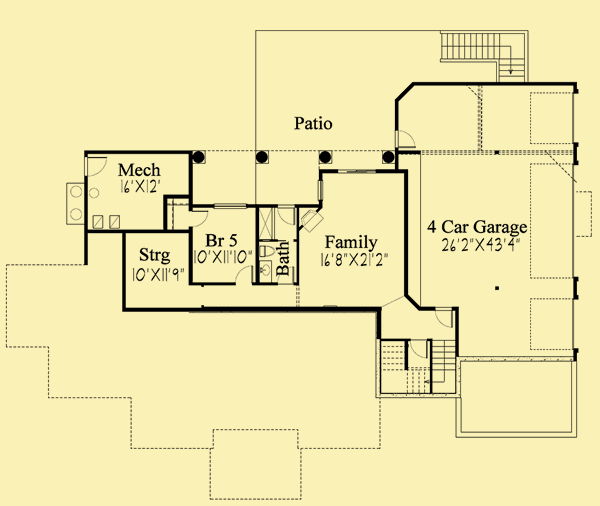door: (84, 155, 111, 177), (231, 263, 255, 287), (404, 335, 428, 358), (433, 304, 455, 328), (392, 128, 416, 149), (185, 209, 212, 226), (275, 206, 296, 226)
large sink: (256, 242, 277, 260)
small sink: (258, 258, 274, 285)
stairs: (377, 336, 462, 401), (436, 27, 531, 82)
windows: (336, 164, 377, 178), (212, 201, 249, 211), (315, 178, 326, 204)
